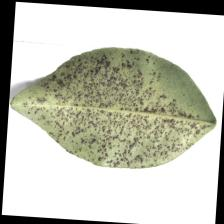canker: (61, 68, 146, 152)
